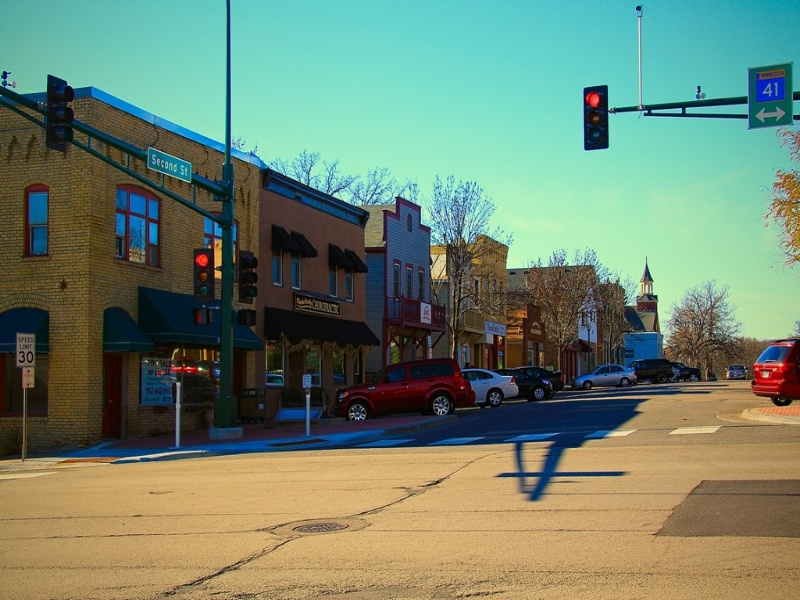red_light: (580, 84, 605, 109), (190, 248, 213, 272)
speed_limit_30: (16, 347, 36, 365)
